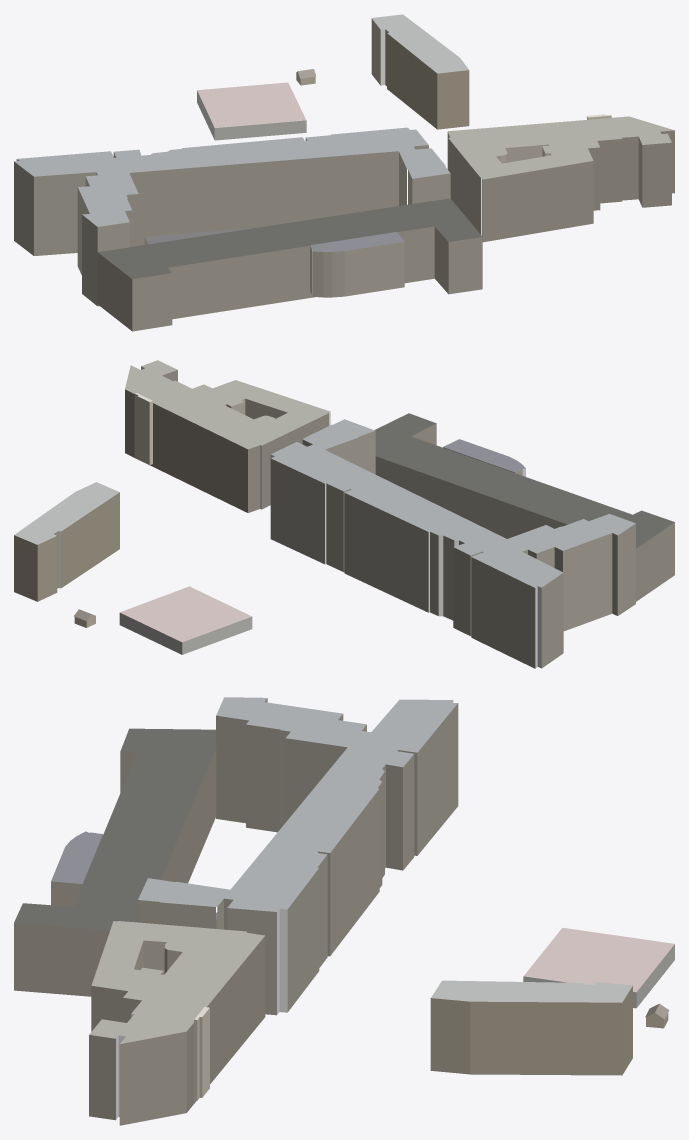
3 views of the same model, one above another, from view 1: azimuth 30°, elevation 25°; view 2: azimuth 150°, elevation 25°; view 3: azimuth 270°, elevation 25° (orthographic). The views are drawn at different scales.
Parts seen in each view (by area): view 1: tuile; view 2: tuile; view 3: tuile.
Part boxes in pixels (x1,y1,x2,y2): tuile: (14,14,674,331); tuile: (14,360,674,668); tuile: (14,697,674,1125).
Size of the model in its own units: 272 by 38.26 by 222.
